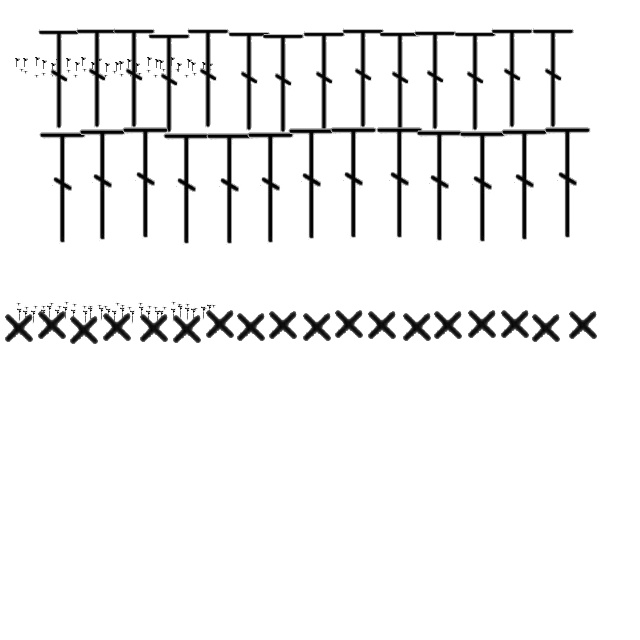double: (2, 309, 36, 345), (35, 306, 69, 342), (67, 311, 101, 347), (100, 308, 134, 344), (137, 309, 171, 345), (170, 310, 204, 346), (203, 305, 237, 341), (234, 308, 268, 344), (266, 306, 300, 342), (300, 308, 334, 344), (332, 305, 366, 341), (365, 306, 399, 342), (400, 308, 434, 344), (431, 306, 465, 342), (465, 305, 499, 341), (498, 305, 532, 341), (529, 309, 563, 345), (566, 306, 600, 342), (50, 72, 56, 78), (66, 68, 72, 74), (98, 72, 104, 78), (128, 72, 134, 78), (146, 68, 152, 74), (64, 300, 70, 306), (72, 302, 78, 308), (82, 304, 88, 310), (88, 304, 94, 310), (202, 306, 208, 312), (34, 74, 40, 78), (56, 72, 62, 76), (82, 68, 88, 72), (90, 72, 96, 76), (112, 70, 118, 74), (120, 72, 124, 78), (184, 74, 190, 78), (192, 72, 198, 76), (16, 302, 22, 306), (24, 306, 30, 310), (34, 304, 38, 310), (42, 304, 46, 310), (58, 304, 62, 310), (104, 304, 108, 310), (120, 304, 126, 308), (138, 302, 144, 306), (148, 304, 152, 310), (162, 306, 168, 310), (172, 300, 176, 306), (178, 302, 182, 308), (186, 302, 190, 308), (194, 306, 198, 312), (20, 68, 24, 72), (24, 70, 28, 74), (42, 72, 46, 76), (74, 74, 78, 78), (104, 74, 108, 78), (138, 72, 142, 76), (154, 74, 158, 78), (162, 68, 166, 72), (168, 70, 172, 74), (176, 68, 180, 72), (204, 70, 208, 74), (208, 68, 212, 72), (50, 302, 54, 306), (98, 304, 102, 308), (116, 302, 120, 306), (128, 306, 132, 310), (154, 306, 158, 310), (212, 304, 216, 308)
double treble: (38, 128, 88, 248), (246, 128, 296, 248), (287, 124, 337, 244), (415, 126, 465, 246), (78, 126, 128, 244), (121, 124, 171, 242), (162, 130, 212, 248), (205, 130, 255, 248), (329, 124, 379, 242), (375, 124, 425, 242), (458, 128, 508, 246), (500, 126, 550, 244), (543, 124, 593, 242), (112, 25, 158, 131), (186, 25, 232, 131), (302, 28, 348, 134), (378, 28, 424, 134), (490, 25, 536, 131), (38, 26, 82, 132), (76, 25, 120, 131), (148, 30, 192, 136), (228, 28, 272, 134), (262, 30, 306, 136), (342, 25, 386, 131), (414, 27, 458, 133), (454, 28, 498, 134), (532, 25, 576, 131), (88, 307, 94, 321), (106, 308, 112, 322), (112, 310, 118, 324), (120, 307, 126, 321), (130, 310, 136, 324), (146, 310, 152, 324), (178, 305, 184, 319), (42, 60, 48, 70), (66, 58, 72, 68), (202, 62, 208, 72), (18, 308, 22, 322), (24, 310, 28, 324), (32, 310, 36, 324), (42, 309, 46, 323), (48, 305, 52, 319), (56, 309, 60, 323), (64, 306, 68, 320), (72, 309, 76, 323), (84, 310, 88, 324), (100, 307, 104, 321), (140, 306, 144, 320), (156, 310, 160, 324), (160, 310, 164, 324), (172, 308, 176, 322), (186, 307, 190, 321), (192, 308, 196, 322), (202, 306, 206, 320), (208, 304, 212, 318), (56, 60, 62, 68), (170, 58, 176, 66), (208, 64, 214, 72), (16, 58, 20, 68), (24, 58, 28, 68), (76, 62, 80, 72), (92, 62, 96, 72), (98, 58, 102, 68), (116, 62, 120, 72), (160, 60, 164, 70), (192, 62, 196, 72), (36, 58, 40, 66), (52, 64, 56, 72), (82, 58, 86, 66), (106, 64, 110, 72), (120, 62, 124, 70), (128, 60, 132, 68), (136, 64, 140, 72), (148, 58, 152, 66), (156, 60, 160, 68), (178, 64, 182, 72), (188, 60, 192, 68)
